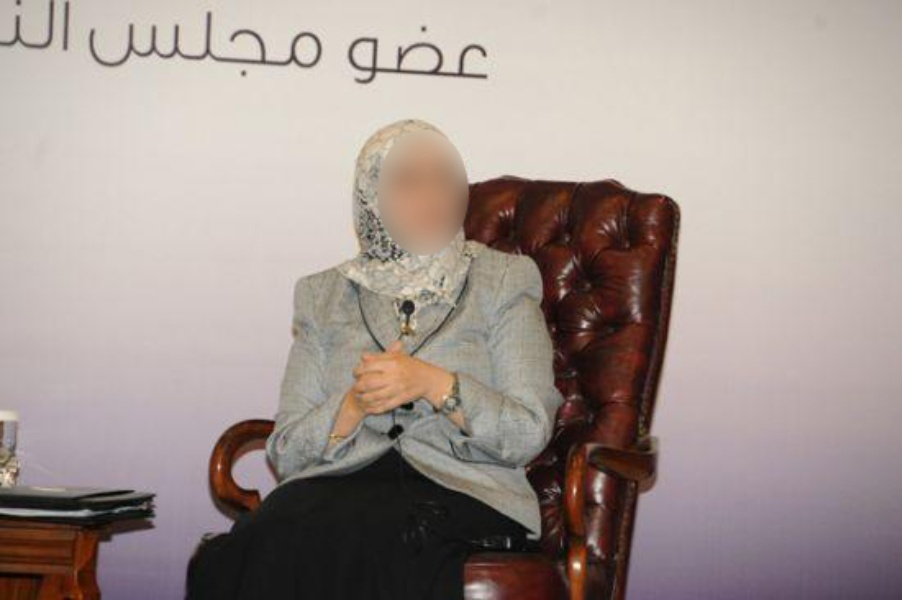text: (353, 17, 368, 92), (369, 17, 384, 92), (385, 17, 400, 92), (401, 17, 416, 92), (417, 17, 432, 92), (433, 17, 448, 92), (449, 17, 464, 92), (465, 17, 480, 92), (97, 7, 112, 82), (113, 7, 128, 82), (129, 7, 144, 82), (145, 7, 160, 82), (161, 7, 176, 82), (177, 7, 192, 82), (193, 7, 208, 82), (209, 7, 224, 82), (225, 7, 240, 82), (241, 7, 256, 82), (257, 7, 272, 82), (273, 7, 288, 82), (289, 7, 304, 82), (305, 7, 320, 82), (84, 7, 96, 82), (481, 17, 492, 92), (1, 1, 16, 56), (17, 1, 32, 56), (33, 1, 48, 56), (49, 1, 64, 56), (65, 1, 74, 56), (321, 7, 327, 82), (348, 17, 352, 92)
